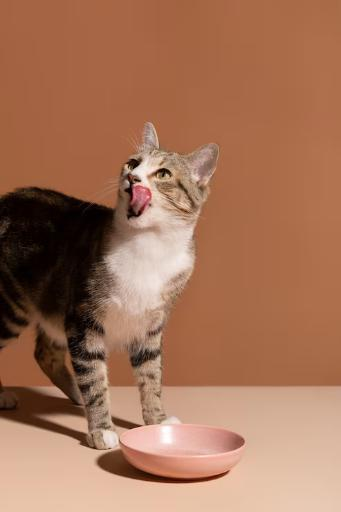cat_eating: (0, 123, 244, 479)
